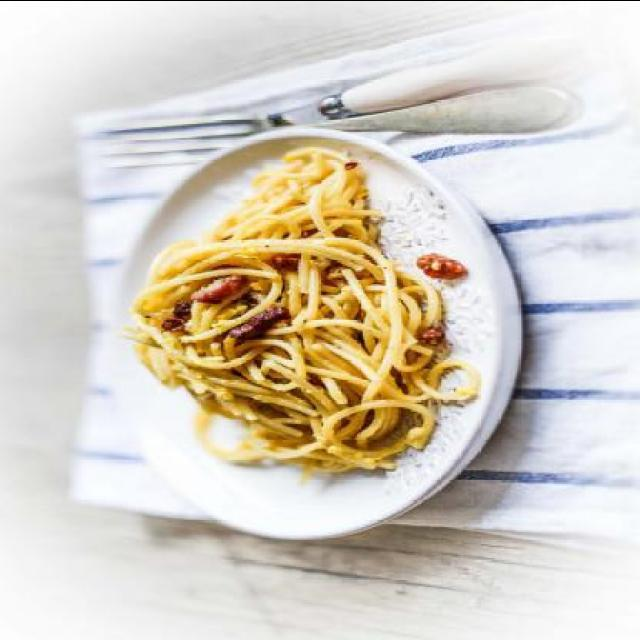Pasta with carbonara sauce: (40, 120, 538, 483)
